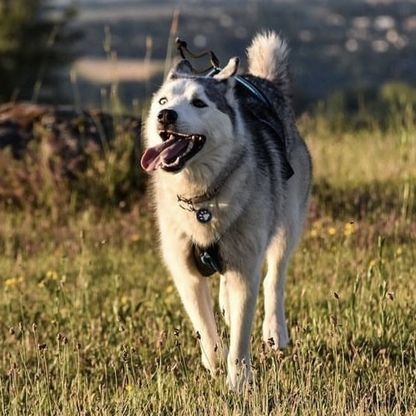husky: (135, 24, 316, 397)
